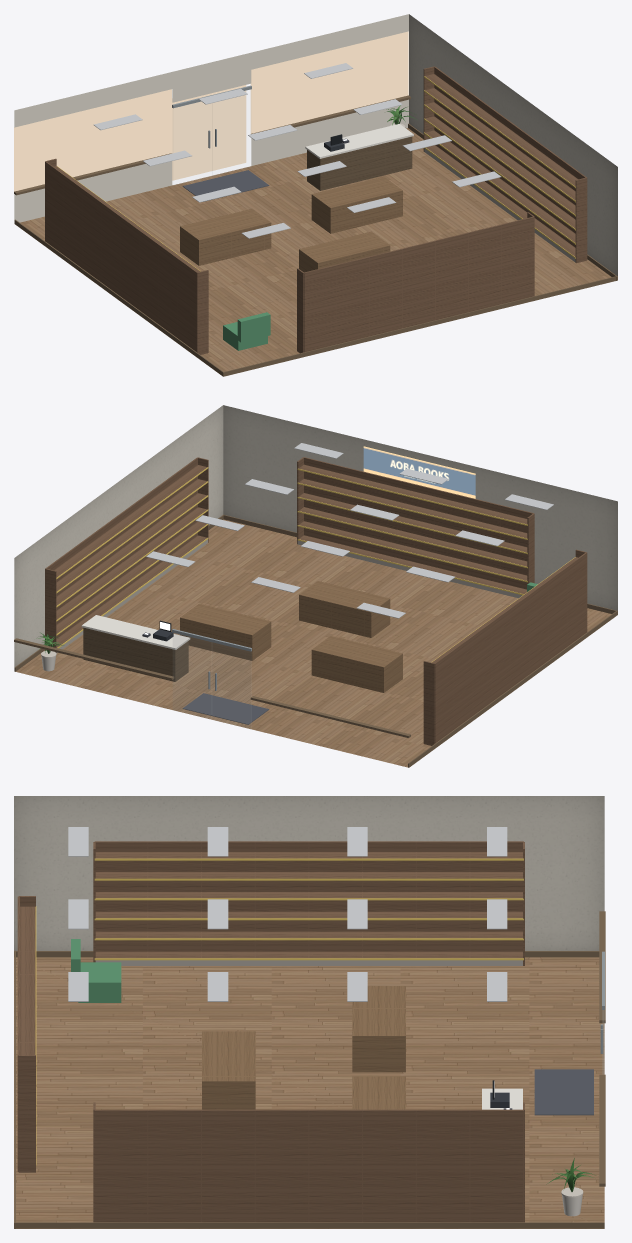
File: interior-books.opt.glb
The picture shows the model from 3 angles, top to bottom: view 1: azimuth 30°, elevation 25°; view 2: azimuth 150°, elevation 25°; view 3: azimuth 270°, elevation 25°; orthographic projection. The views are drawn at different scales.
Visible parts, largest first — view 1: object 12, object 1, interior:books:street-view, object 7, object 6, object 9, object 11, object 13; view 2: object 12, object 1, object 6, object 9, object 11, name-sign, object 7; view 3: object 12, object 1, object 6, object 9, object 11, object 7, object 13.
Part boxes in pixels (x1=…): object 12: x1=45, y1=66, x2=587, y2=354; object 1: x1=16, y1=128, x2=615, y2=375; interior:books:street-view: x1=14, y1=31, x2=408, y2=191; object 7: x1=14, y1=14, x2=408, y2=223; object 6: x1=409, y1=14, x2=617, y2=275; object 9: x1=14, y1=76, x2=617, y2=376; object 11: x1=93, y1=63, x2=501, y2=238; object 13: x1=223, y1=312, x2=270, y2=350; object 12: x1=45, y1=457, x2=587, y2=745; object 1: x1=16, y1=519, x2=614, y2=767; object 6: x1=14, y1=405, x2=617, y2=670; object 9: x1=14, y1=467, x2=617, y2=767; object 11: x1=146, y1=443, x2=553, y2=618; name-sign: x1=363, y1=446, x2=475, y2=498; object 7: x1=182, y1=693, x2=269, y2=724; object 12: x1=17, y1=841, x2=524, y2=1222; object 1: x1=14, y1=957, x2=604, y2=1228; object 6: x1=14, y1=796, x2=604, y2=950; object 9: x1=14, y1=858, x2=605, y2=1228; object 11: x1=68, y1=827, x2=507, y2=1001; object 7: x1=534, y1=1069, x2=593, y2=1115; object 13: x1=71, y1=939, x2=121, y2=1002.
Bounding box in the file's own units: 12 × 3.3 × 11.25.
14 materials, 5 textured.
